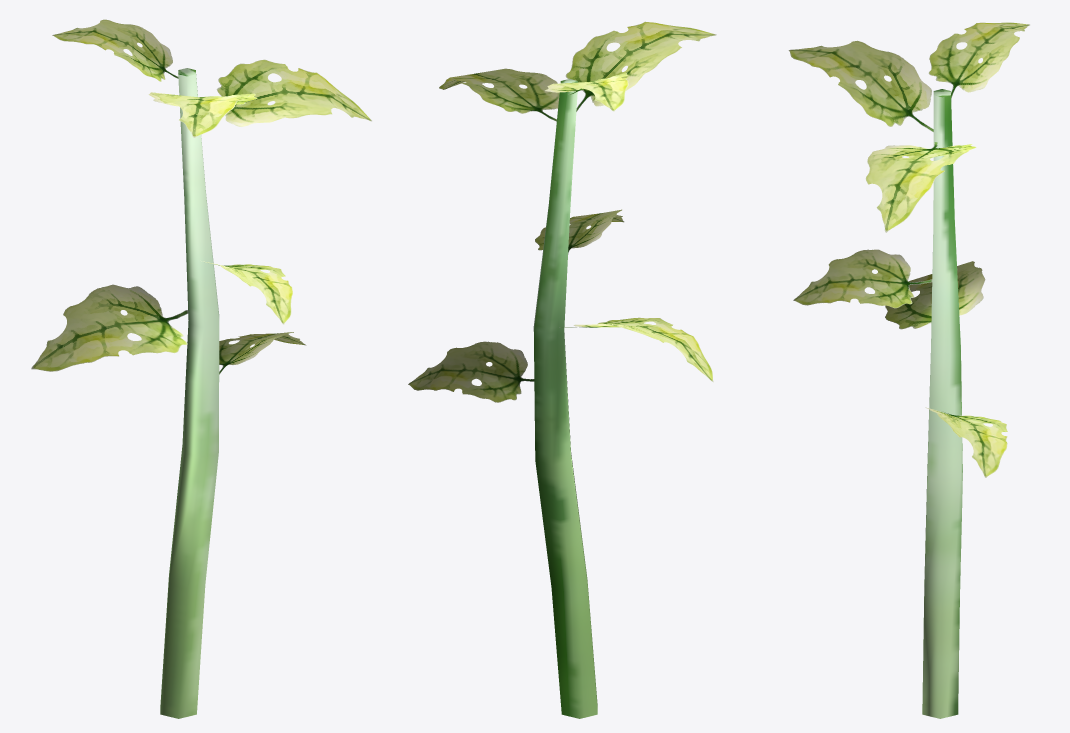
Rendered from ierbita.fbx.
3 views of the same model, side by side, from view 1: azimuth 30°, elevation 25°; view 2: azimuth 150°, elevation 25°; view 3: azimuth 270°, elevation 25° (orthographic). The views are drawn at different scales.
Parts seen in each view (by area): view 1: pPlane38; view 2: pPlane38; view 3: pPlane38.
Boxes of the visible parts, box(x1,y1,x2,y2) form: pPlane38: box(31, 19, 371, 718); pPlane38: box(408, 21, 716, 718); pPlane38: box(788, 22, 1029, 718).
Size of the model in its own units: 43.26 by 86.29 by 34.84.
Materials: 1 (1 with a texture image).
